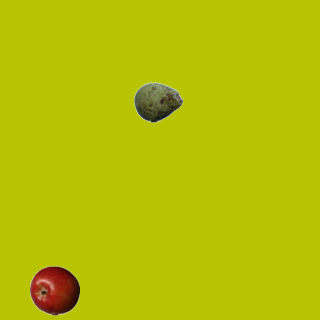Apple Braeburn: (29, 265, 79, 315)
Pear Stone: (133, 77, 183, 127)
